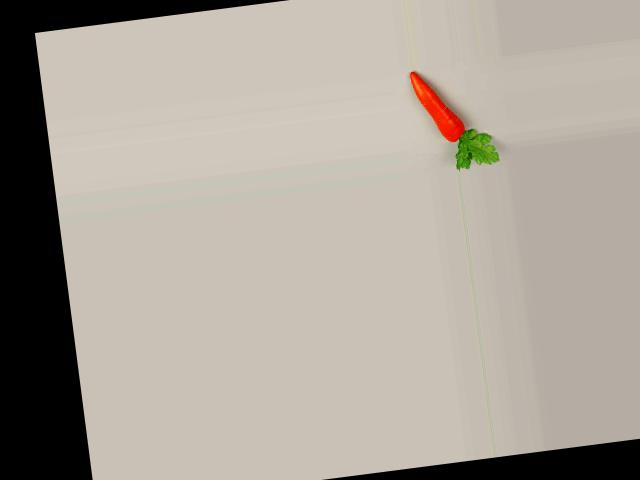carrot: (406, 60, 476, 156)
